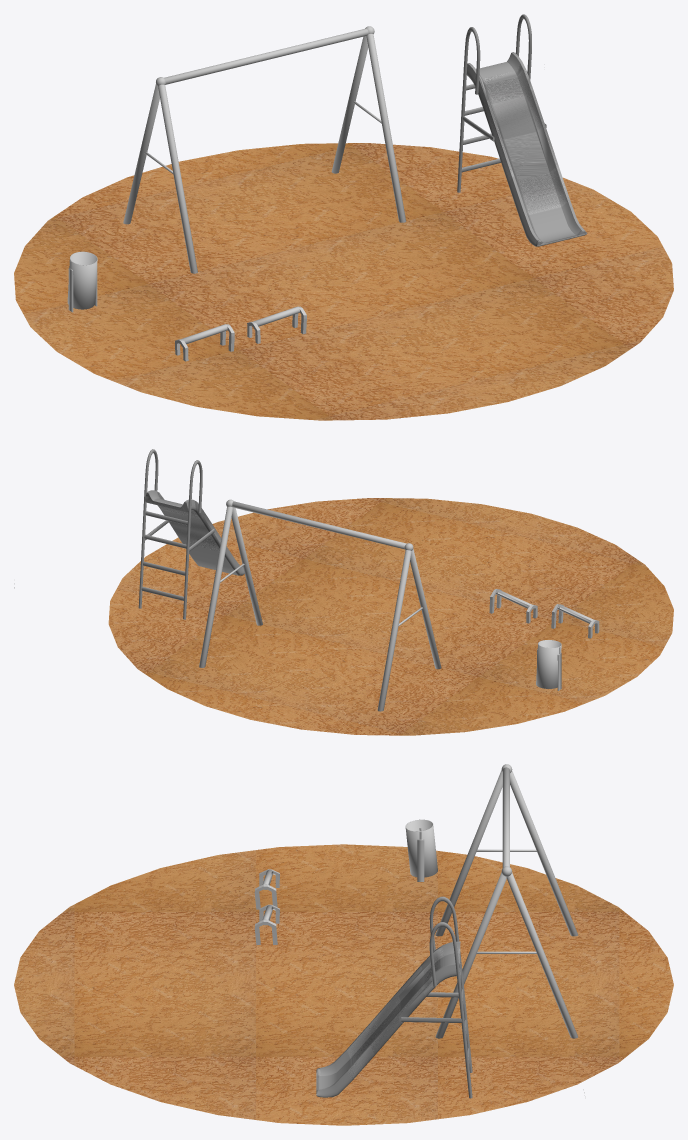
File: AreaInfantil.fbx
The picture shows the model from 3 angles, top to bottom: view 1: azimuth 30°, elevation 25°; view 2: azimuth 150°, elevation 25°; view 3: azimuth 270°, elevation 25°; orthographic projection. The views are drawn at different scales.
Parts seen in each view (by area): view 1: Cylinder, slide, Playground1, Basura, Base_001, Base; view 2: Cylinder, Playground1, slide, Basura, Base, Base_001; view 3: Cylinder, slide, Playground1, Basura, Base, Base_001.
Part boxes in pixels (x1,y1,x2,y2): Cylinder: [14, 143, 673, 420]; slide: [457, 14, 587, 246]; Playground1: [123, 26, 406, 273]; Basura: [67, 251, 97, 312]; Base_001: [175, 324, 234, 361]; Base: [247, 306, 306, 343]; Cylinder: [108, 498, 673, 735]; Playground1: [14, 499, 441, 711]; slide: [138, 449, 244, 619]; Basura: [536, 640, 561, 690]; Base: [489, 589, 537, 623]; Base_001: [551, 604, 599, 638]; Cylinder: [14, 844, 673, 1125]; slide: [316, 896, 472, 1098]; Playground1: [435, 764, 584, 1092]; Basura: [405, 819, 437, 881]; Base: [254, 904, 279, 945]; Base_001: [254, 869, 279, 909].
Bounding box in the file's own units: 12.13 × 3.6 × 11.37.
